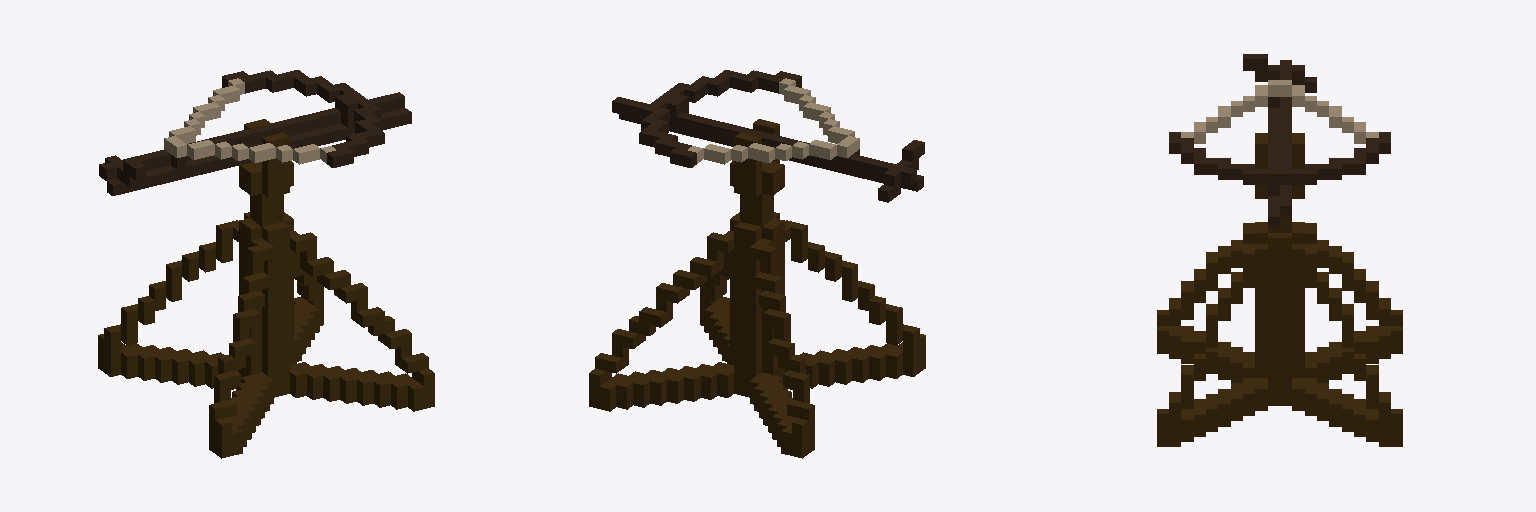
3 views of the same model, side by side, from view 1: azimuth 30°, elevation 25°; view 2: azimuth 150°, elevation 25°; view 3: azimuth 270°, elevation 25° (orthographic).
Visible parts, largest first — view 1: ballista; view 2: ballista; view 3: ballista.
Part boxes in pixels (bbox=[...]): ballista: bbox=[98, 70, 434, 458]; ballista: bbox=[589, 70, 925, 458]; ballista: bbox=[1157, 54, 1402, 446].
Bounding box in the file's own units: 28 × 24 × 20.
Materials: 1 (1 with a texture image).